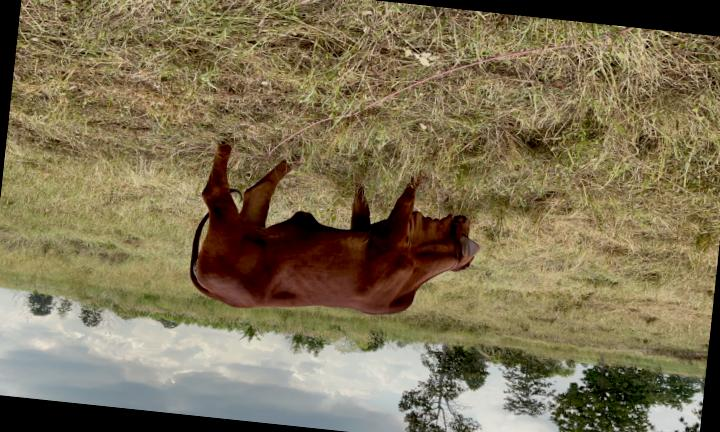Brahman: (190, 146, 478, 315)
